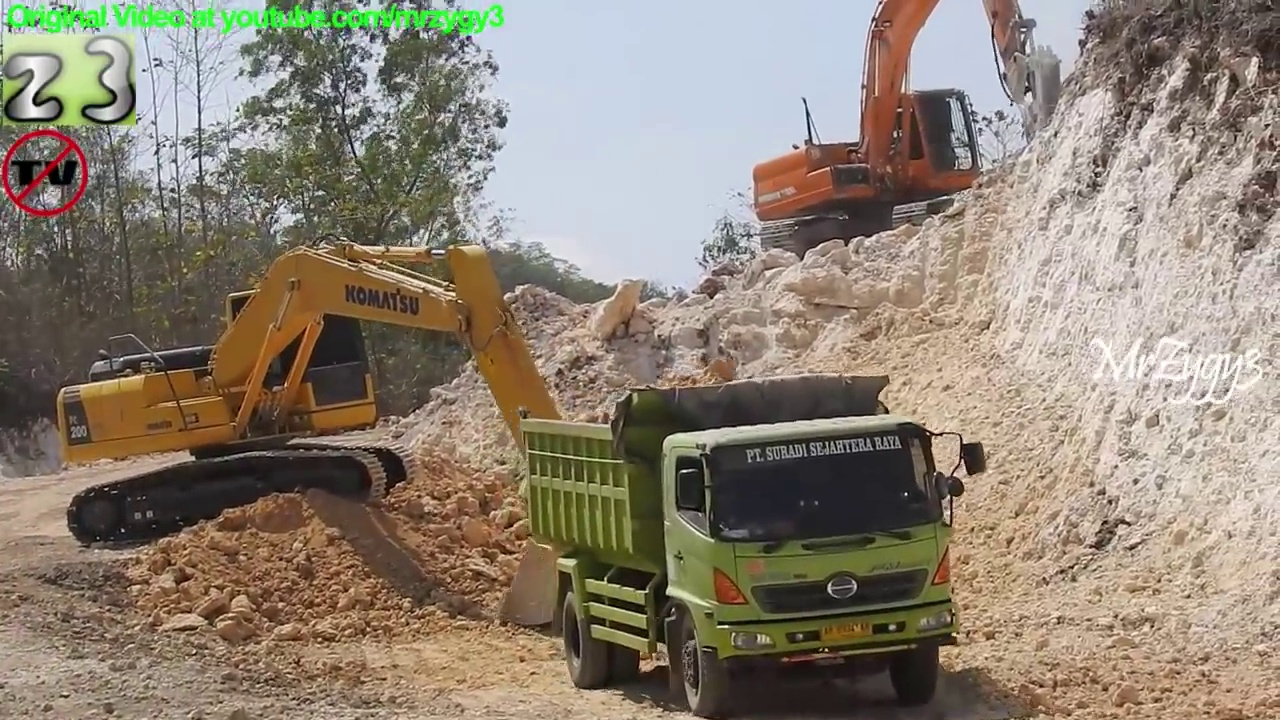excavator: (47, 226, 646, 637), (744, 1, 1071, 272)
truck: (515, 368, 998, 720)
